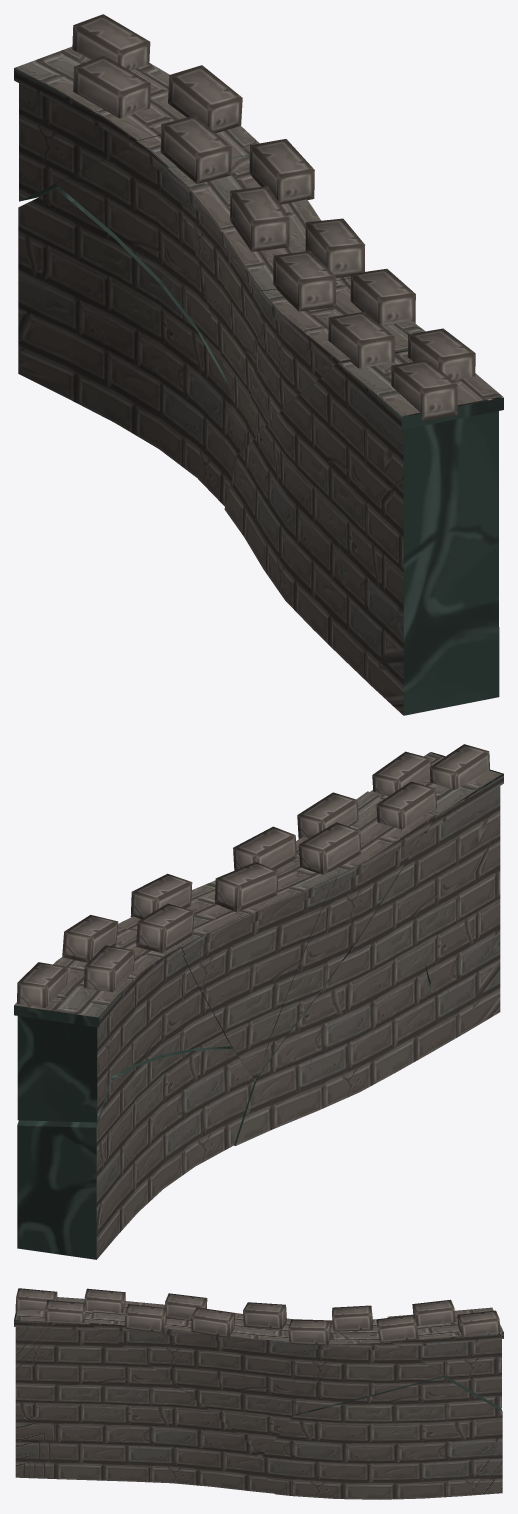
The model's file is wallpieces_breakable.fbx.
3 renders of one model, top to bottom at view 1: azimuth 30°, elevation 25°; view 2: azimuth 150°, elevation 25°; view 3: azimuth 270°, elevation 25°, orthographic. The views are drawn at different scales.
Parts seen in each view (by area): view 1: polySurface204, polySurface206, polySurface202, polySurface201, polySurface200, polySurface203, polySurface205, polySurface194, polySurface190, polySurface191, polySurface193, polySurface192 (+7 smaller); view 2: polySurface204, polySurface206, polySurface202, polySurface200, polySurface203, polySurface201, polySurface205, polySurface192, polySurface198, polySurface194, polySurface197, polySurface207 (+7 smaller); view 3: polySurface204, polySurface206, polySurface202, polySurface203, polySurface201, polySurface200, polySurface205, polySurface197, polySurface192, polySurface196, polySurface193, polySurface194 (+7 smaller).
Part boxes in pixels (left/top/right/bottom): polySurface204: left=224, top=351, right=503, bottom=715; polySurface206: left=18, top=188, right=238, bottom=506; polySurface202: left=166, top=155, right=350, bottom=454; polySurface201: left=56, top=126, right=259, bottom=376; polySurface200: left=14, top=46, right=186, bottom=201; polySurface203: left=240, top=278, right=425, bottom=452; polySurface205: left=277, top=383, right=343, bottom=585; polySurface194: left=160, top=115, right=231, bottom=183; polySurface190: left=168, top=65, right=242, bottom=133; polySurface191: left=73, top=55, right=150, bottom=118; polySurface193: left=249, top=139, right=314, bottom=204; polySurface192: left=230, top=186, right=289, bottom=251; polySurface204: left=234, top=752, right=503, bottom=1145; polySurface206: left=17, top=1046, right=254, bottom=1259; polySurface202: left=118, top=859, right=338, bottom=1081; polySurface200: left=14, top=955, right=158, bottom=1122; polySurface203: left=258, top=791, right=436, bottom=1075; polySurface201: left=99, top=926, right=230, bottom=1076; polySurface205: left=342, top=871, right=430, bottom=994; polySurface192: left=215, top=862, right=278, bottom=912; polySurface198: left=299, top=822, right=361, bottom=874; polySurface194: left=136, top=903, right=194, bottom=952; polySurface197: left=233, top=826, right=296, bottom=870; polySurface207: left=376, top=781, right=436, bottom=829; polySurface204: left=14, top=1297, right=274, bottom=1493; polySurface206: left=258, top=1375, right=502, bottom=1499; polySurface202: left=192, top=1310, right=352, bottom=1458; polySurface203: left=88, top=1301, right=253, bottom=1446; polySurface201: left=295, top=1319, right=444, bottom=1414; polySurface200: left=387, top=1307, right=503, bottom=1407; polySurface205: left=95, top=1352, right=187, bottom=1443; polySurface197: left=191, top=1307, right=234, bottom=1337; polySurface192: left=243, top=1302, right=286, bottom=1329; polySurface196: left=124, top=1304, right=166, bottom=1333; polySurface193: left=288, top=1319, right=330, bottom=1345; polySurface194: left=332, top=1305, right=372, bottom=1331.
Bounding box in the file's own units: 2 × 3.49 × 8.81.
